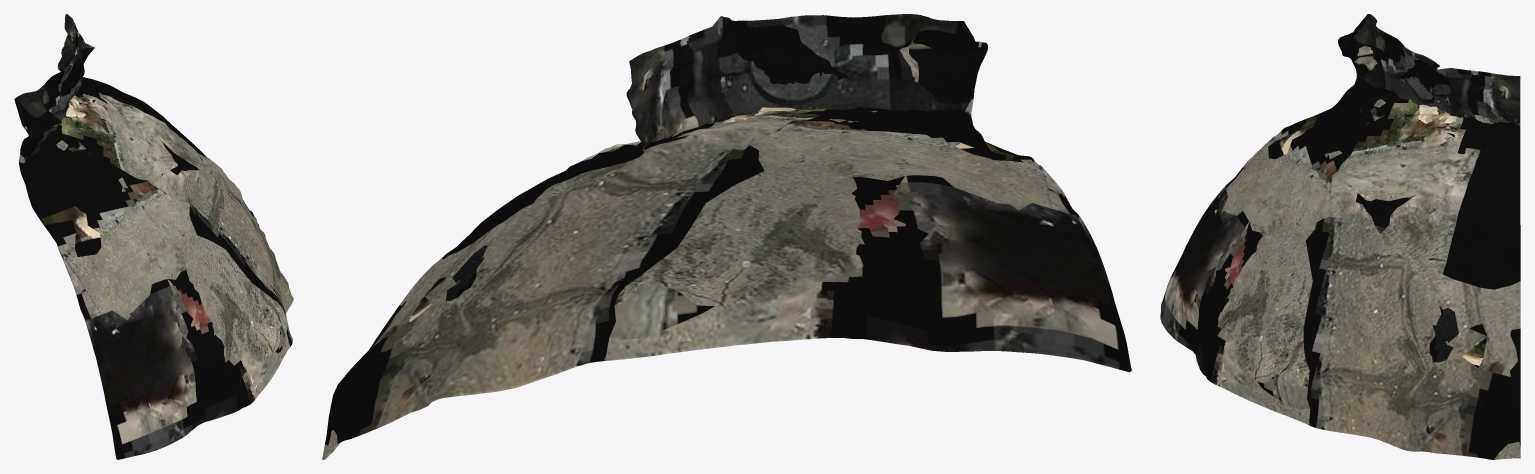
The picture shows the model from 3 angles, left to right: view 1: azimuth 30°, elevation 25°; view 2: azimuth 150°, elevation 25°; view 3: azimuth 270°, elevation 25°; orthographic projection. The views are drawn at different scales.
Visible parts, largest first — view 1: node_44; view 2: node_44; view 3: node_44.
Part boxes in pixels (x1,y1,x2,y2): node_44: (14, 14, 293, 459); node_44: (322, 14, 1131, 459); node_44: (1160, 14, 1520, 459).
Size of the model in its own units: 1.08 by 0.9363 by 1.06.
1 material, 1 textured.
